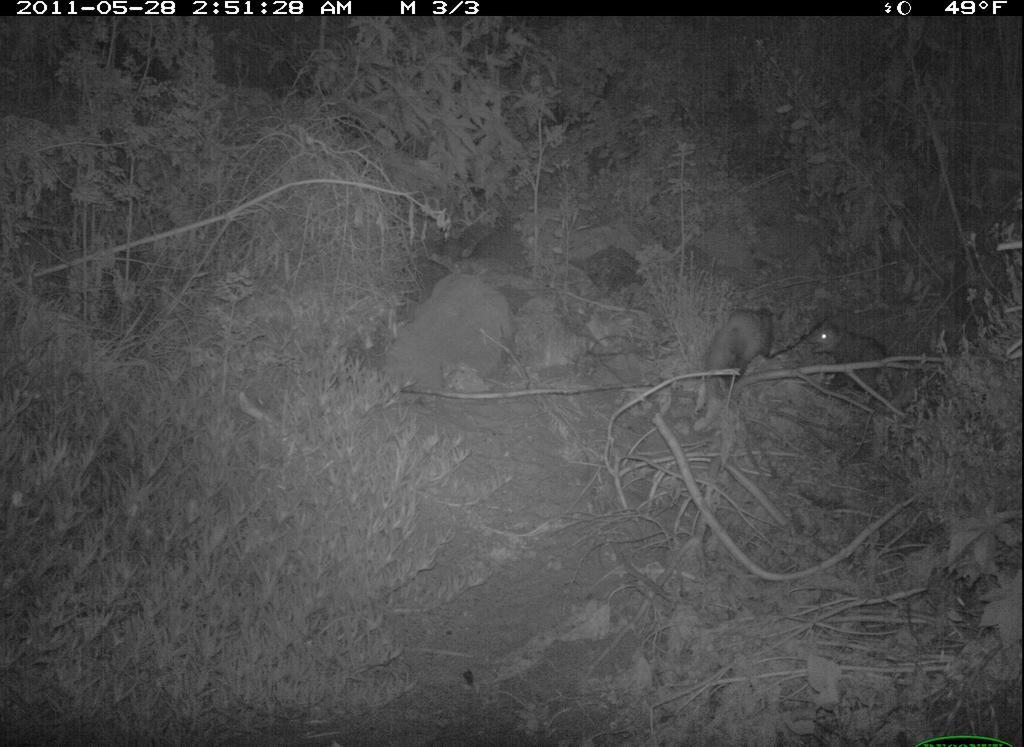opossum: (698, 295, 793, 405), (803, 315, 900, 411)
